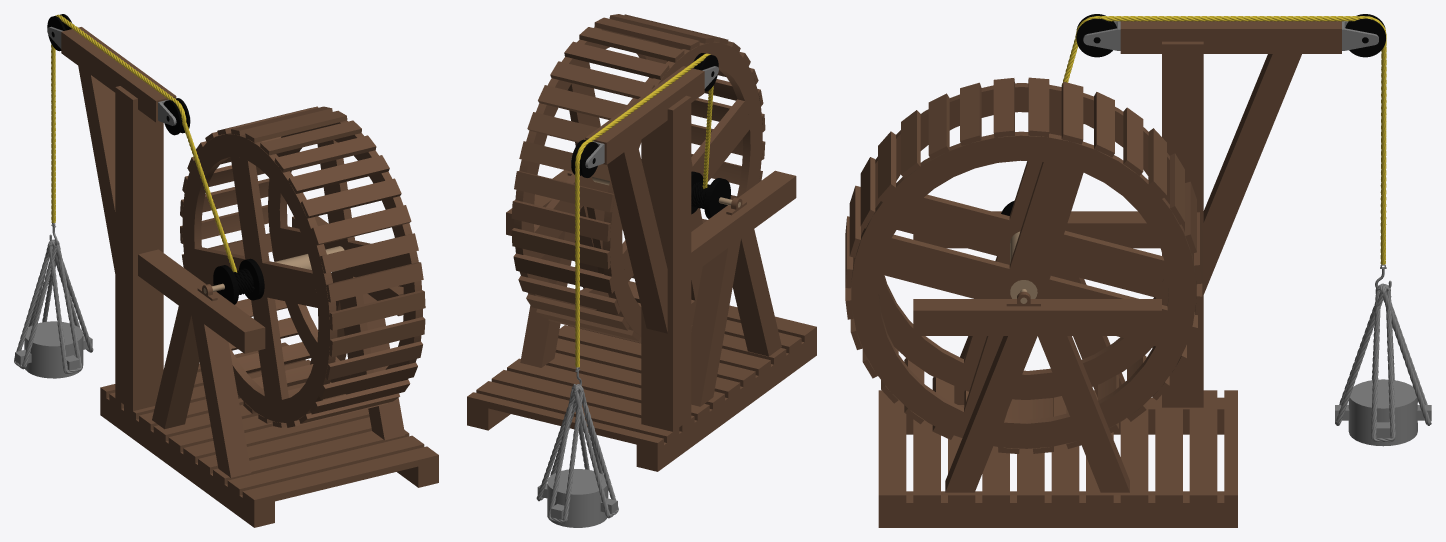
Rendered from Grúa Medieval GLB.glb.
3 renders of one model, left to right at view 1: azimuth 30°, elevation 25°; view 2: azimuth 150°, elevation 25°; view 3: azimuth 270°, elevation 25°, orthographic. The views are drawn at different scales.
Visible parts, largest first — view 1: Saliente-Extruir4, Saliente-Extruir1, Obj_Saliente-Extruir1, Cortar-Extruir22, Cortar-Extruir21, MatrizC2, Saliente-Extruir12, Saliente-Extruir6, Saliente-Extruir22, Saliente-Extruir5, Saliente-Extruir23, Saliente-Extruir1_1 (+31 smaller); view 2: Saliente-Extruir4, Saliente-Extruir1, MatrizC2, Obj_Saliente-Extruir1, Saliente-Extruir6, Cortar-Extruir21, Saliente-Extruir12, Saliente-Extruir5, Saliente-Extruir1_1, Cortar-Extruir22, Saliente-Extruir211, Saliente-Extruir21 (+33 smaller); view 3: Cortar-Extruir21, Saliente-Extruir1_1, Cortar-Extruir22, Obj_Saliente-Extruir1, Saliente-Extruir11, Saliente-Extruir4, MatrizC2, Saliente-Extruir6, Saliente-Extruir5, Saliente-Extruir1, Saliente-Extruir211, Saliente-Extruir22 (+25 smaller).
Boxes of the visible parts, bbox=[...] form: Saliente-Extruir4: bbox=[115, 86, 163, 410]; Saliente-Extruir1: bbox=[138, 249, 265, 477]; Obj_Saliente-Extruir1: bbox=[182, 133, 337, 422]; Cortar-Extruir22: bbox=[194, 157, 317, 399]; Cortar-Extruir21: bbox=[268, 120, 422, 394]; MatrizC2: bbox=[14, 223, 93, 378]; Saliente-Extruir12: bbox=[100, 394, 274, 527]; Saliente-Extruir6: bbox=[78, 66, 115, 273]; Saliente-Extruir22: bbox=[242, 446, 438, 506]; Saliente-Extruir5: bbox=[61, 27, 176, 122]; Saliente-Extruir23: bbox=[227, 435, 424, 495]; Saliente-Extruir1_1: bbox=[292, 216, 404, 440]; Saliente-Extruir4: bbox=[641, 95, 691, 431]; Saliente-Extruir1: bbox=[691, 170, 796, 406]; MatrizC2: bbox=[536, 367, 618, 527]; Obj_Saliente-Extruir1: bbox=[602, 41, 762, 337]; Saliente-Extruir6: bbox=[607, 143, 667, 333]; Cortar-Extruir21: bbox=[514, 27, 666, 310]; Saliente-Extruir12: bbox=[636, 333, 816, 471]; Saliente-Extruir5: bbox=[585, 66, 704, 164]; Saliente-Extruir1_1: bbox=[506, 170, 598, 367]; Cortar-Extruir22: bbox=[622, 99, 749, 300]; Saliente-Extruir211: bbox=[476, 381, 679, 442]; Saliente-Extruir21: bbox=[467, 392, 663, 449]; Cortar-Extruir21: bbox=[851, 131, 1196, 448]; Saliente-Extruir1_1: bbox=[913, 299, 1161, 492]; Cortar-Extruir22: bbox=[897, 114, 1166, 367]; Obj_Saliente-Extruir1: bbox=[853, 83, 1193, 399]; Saliente-Extruir11: bbox=[878, 491, 1237, 527]; Saliente-Extruir4: bbox=[1162, 41, 1203, 407]; MatrizC2: bbox=[1335, 264, 1431, 446]; Saliente-Extruir6: bbox=[1203, 54, 1301, 294]; Saliente-Extruir5: bbox=[1120, 21, 1341, 53]; Saliente-Extruir1: bbox=[913, 211, 1160, 404]; Saliente-Extruir211: bbox=[1189, 390, 1217, 502]; Saliente-Extruir22: bbox=[878, 390, 906, 502].
Size of the model in its own units: 2 by 3.31 by 4.24.
